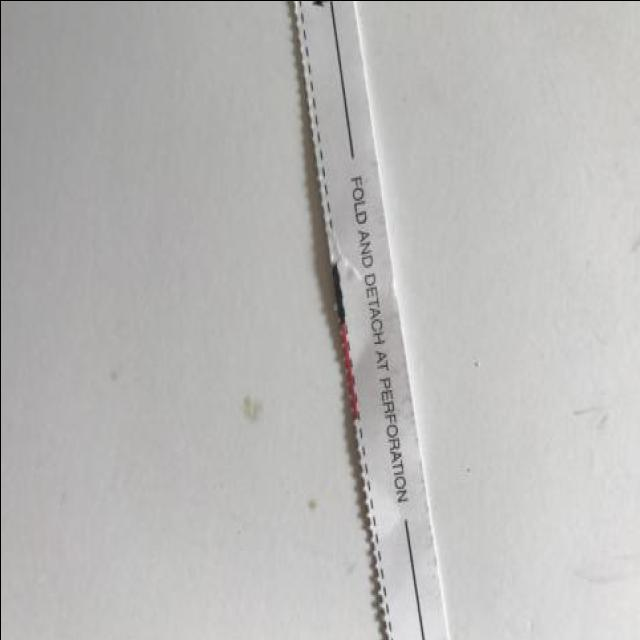kertas: (290, 0, 451, 640)
